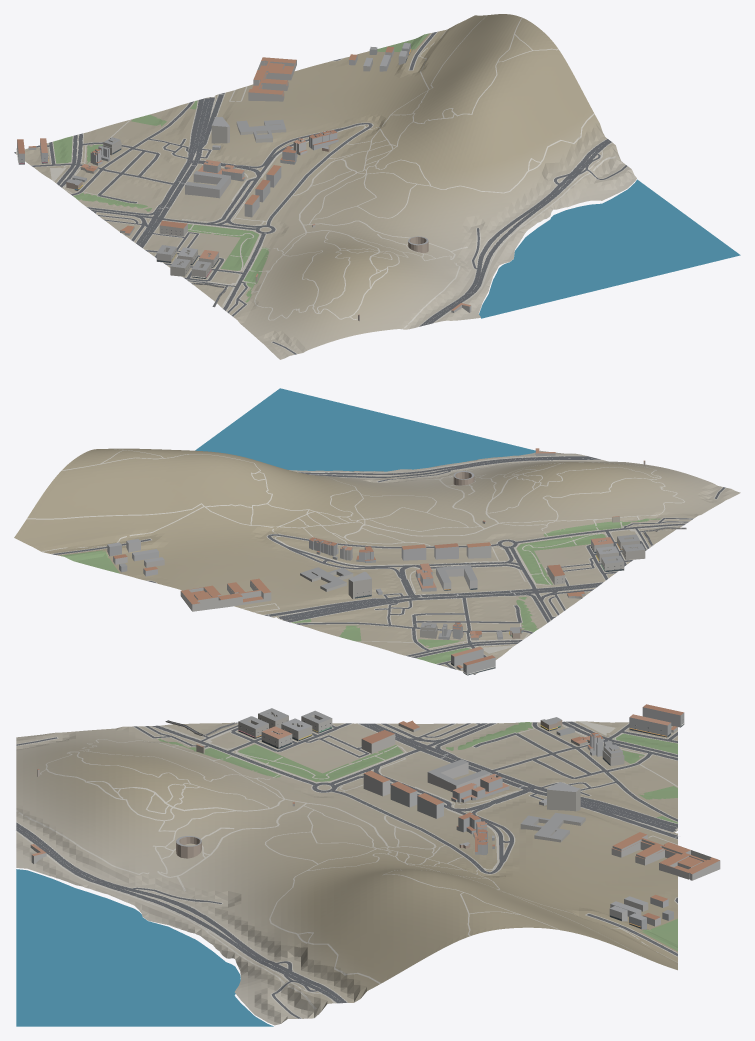
3 renders of one model, top to bottom at view 1: azimuth 30°, elevation 25°; view 2: azimuth 150°, elevation 25°; view 3: azimuth 270°, elevation 25°, orthographic. The views are drawn at different scales.
Parts seen in each view (by area): view 1: Ground, Water, Sidewalk, Road, Walls, Roofs, Park; view 2: Ground, Water, Sidewalk, Road, Walls, Roofs, Park; view 3: Ground, Water, Sidewalk, Road, Walls, Roofs, Park.
Part boxes in pixels (x1,y1,x2,y2): Ground: (24,14,636,359); Water: (479,179,740,318); Sidewalk: (16,15,627,354); Road: (14,32,626,354); Walls: (17,43,471,320); Roofs: (17,43,470,315); Park: (53,33,428,302); Ground: (14,448,740,673); Water: (195,388,535,471); Sidewalk: (27,449,726,674); Road: (52,456,725,674); Walls: (107,450,645,674); Roofs: (107,448,644,668); Park: (60,518,660,663); Ground: (16,721,677,1025); Water: (16,869,273,1026); Sidewalk: (16,721,677,1018); Road: (16,721,677,1018); Walls: (30,707,720,929); Roofs: (31,704,719,920); Park: (158,722,677,951).
Bounding box in the file's own units: 1020 × 165 × 1099.
